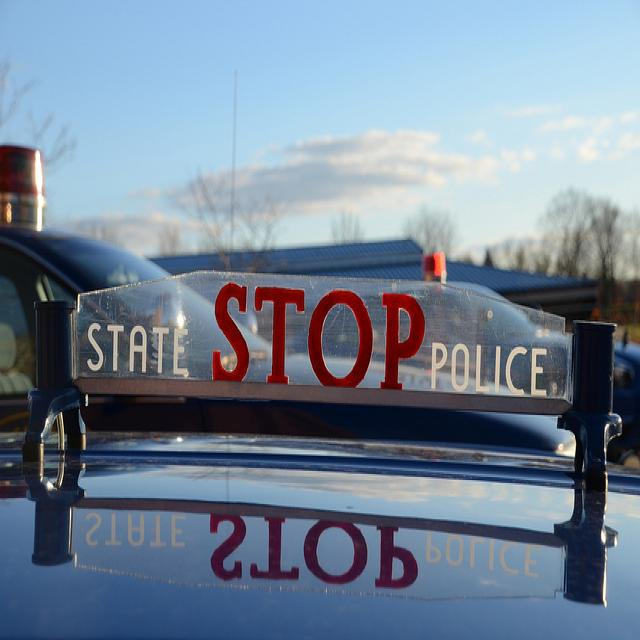Vehicle: (0, 268, 640, 639), (3, 231, 177, 438), (610, 339, 640, 456)
